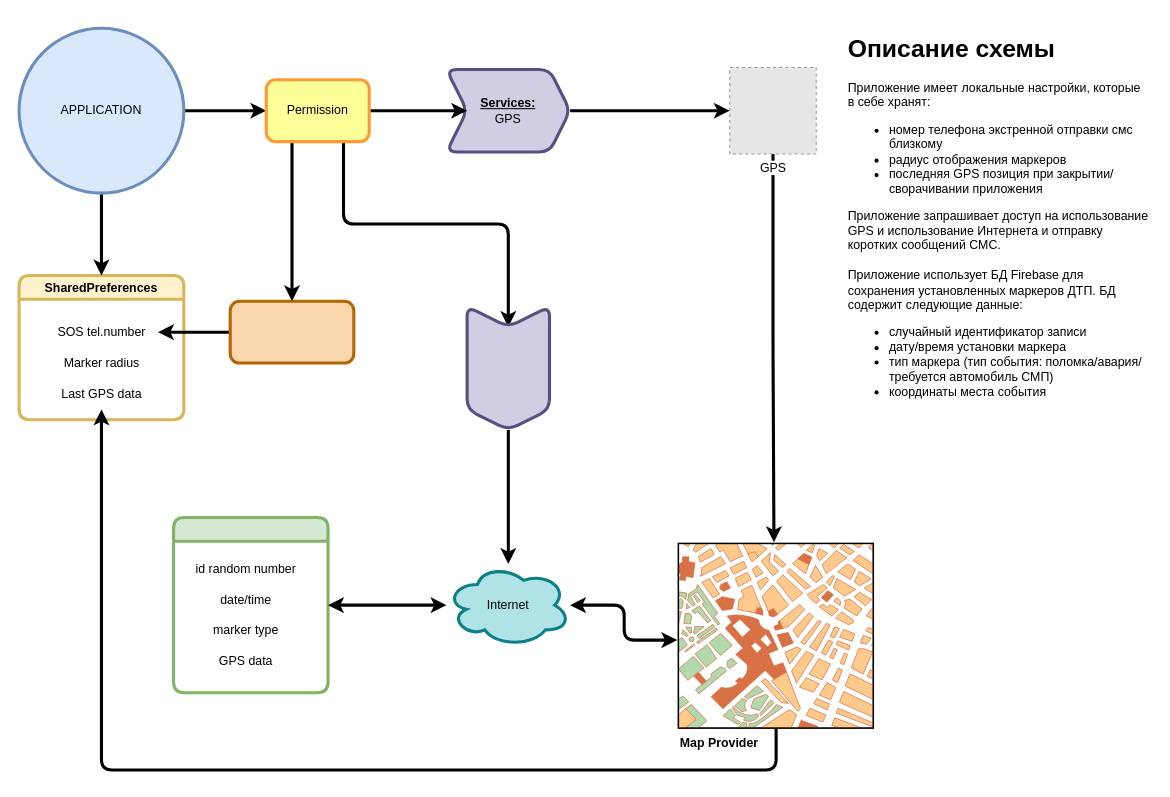
Image size: 1170x797. Some labels were removed from this diagram. Grey dashed boxes stand in for pictures. The shapes that lost their labels are listed below. From the top down, each one's box as (x1, y1, x2, y2) in pixels, then its label:
(228, 299, 355, 364): SMS
(465, 304, 551, 431): Services: Internet
(171, 516, 329, 694): Firebase
